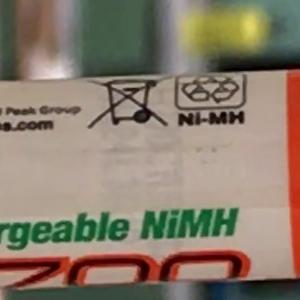keyword: (130, 198, 248, 249)
